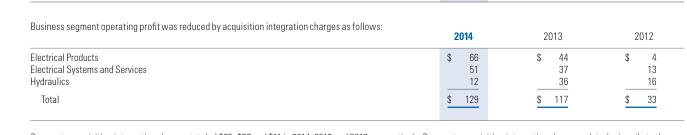table: (29, 28, 655, 104)
table column: (29, 28, 295, 104), (295, 28, 506, 104), (506, 28, 595, 104), (595, 28, 655, 104)
table column header: (29, 28, 655, 46)
table row: (29, 28, 655, 46), (29, 46, 655, 62), (29, 74, 655, 89), (29, 89, 655, 104), (29, 62, 655, 74)
